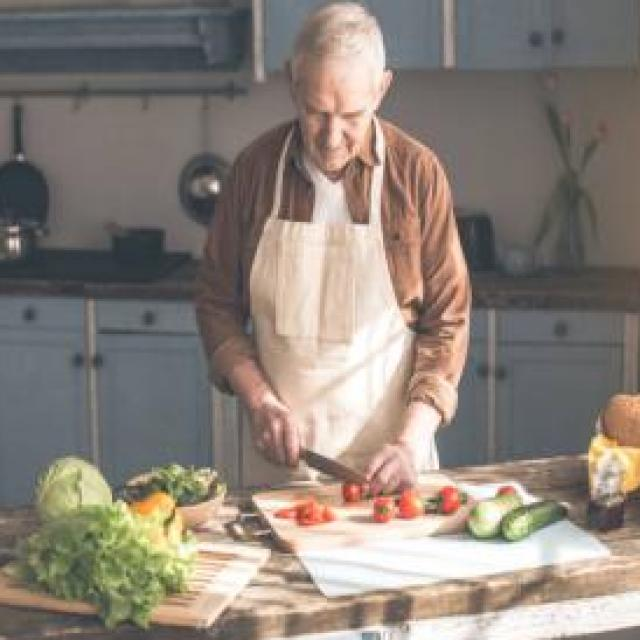knife: (259, 444, 377, 493)
